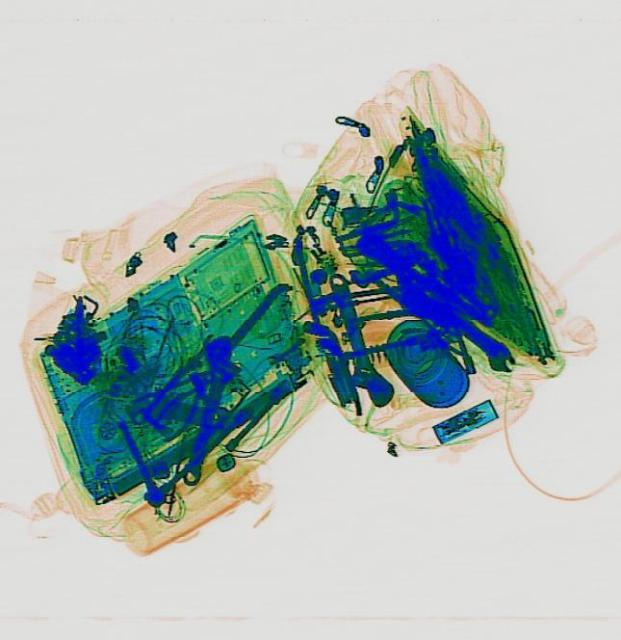Pliers: (142, 365, 219, 445)
Wrench: (167, 330, 246, 488), (313, 268, 396, 412), (424, 297, 518, 377), (123, 386, 228, 436)
